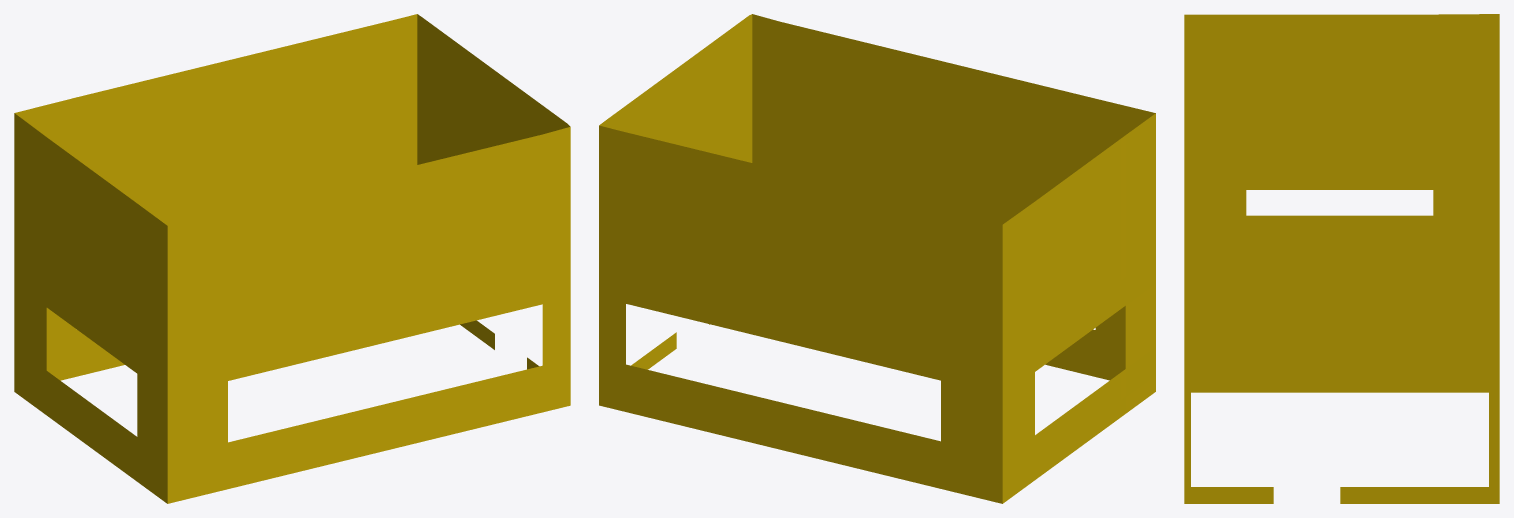
3 views of the same model, side by side, from view 1: azimuth 30°, elevation 25°; view 2: azimuth 150°, elevation 25°; view 3: azimuth 270°, elevation 25° (orthographic). The views are drawn at different scales.
Parts seen in each view (by area): view 1: W_01_WP_02; view 2: W_01_WP_02; view 3: W_01_WP_02.
Boxes of the visible parts, x1,y1,x2,y2 form: W_01_WP_02: (14, 14, 570, 503); W_01_WP_02: (599, 14, 1155, 503); W_01_WP_02: (1184, 14, 1499, 503).
Size of the model in its own units: 888 by 589 by 584.
